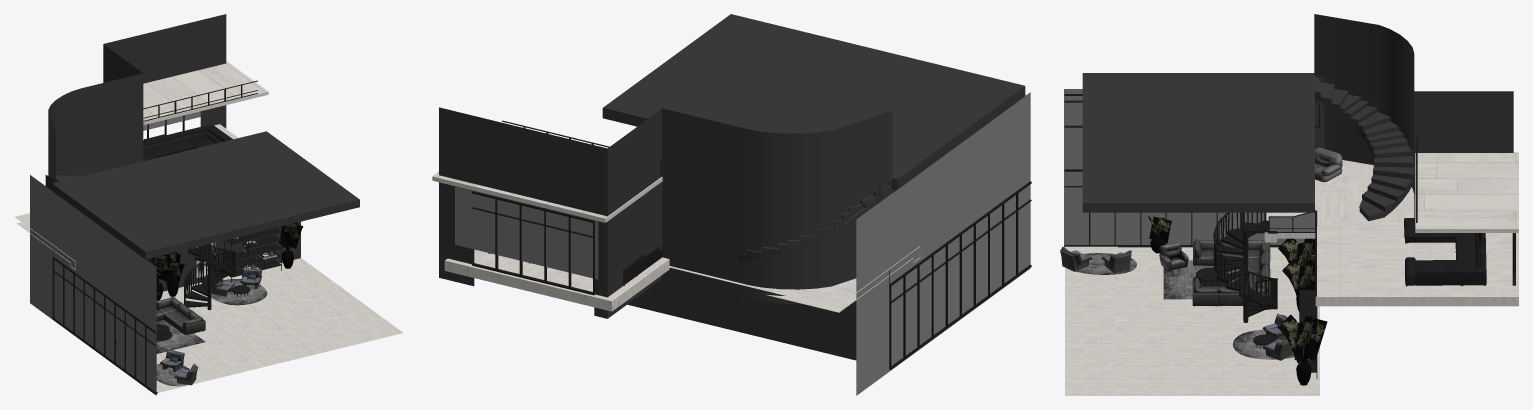
Rendered from loft.glb.
3 views of the same model, side by side, from view 1: azimuth 30°, elevation 25°; view 2: azimuth 150°, elevation 25°; view 3: azimuth 270°, elevation 25° (orthographic). The views are drawn at different scales.
Parts seen in each view (by area): view 1: Cube.008, Plane.026, Plane, Plane.007, Cube.009, Cube, node_0, node_0_S-Remesh, Cube.014, Plane.001, node_0.001, Plane.006 (+7 smaller); view 2: Plane.007, Cube.008, Plane.026, Plane.001, Plane.029, Cube.006, Cube, Cube.011, Plane.003, Cube.009, node_0.002, node_0_S-Remesh; view 3: Cube.008, Plane, Plane.007, Cube.006, Cube.009, Plane.026, node_0.002, Plane.003, node_0, node_0_S-Remesh, node_0.001, Plane.004 (+15 smaller).
Boxes of the visible parts, x1,y1,x2,y2 form: Cube.008: (52,131,359,259); Plane.026: (30,175,156,395); Plane: (156,258,403,392); Plane.007: (48,14,226,182); Cube.009: (143,61,268,125); Cube: (52,257,157,394); node_0: (183,243,235,310); node_0_S-Remesh: (143,124,232,161); Cube.014: (224,226,281,282); Plane.001: (53,221,300,291); node_0.001: (156,296,205,334); Plane.006: (211,279,267,305); Plane.007: (439,107,892,318); Cube.008: (602,14,1025,189); Plane.026: (856,92,1030,395); Plane.001: (627,270,889,360); Plane.029: (455,186,598,279); Cube.006: (444,249,669,311); Cube: (889,181,1031,369); Cube.011: (472,191,595,295); Plane.003: (668,246,920,312); Cube.009: (432,172,662,222); node_0.002: (737,179,891,261); node_0_S-Remesh: (488,246,663,285); Cube.008: (1082,73,1314,212); Plane: (1065,246,1319,395); Plane.007: (1314,14,1513,217); Cube.006: (1315,223,1518,306); Cube.009: (1415,152,1518,232); Plane.026: (1064,89,1304,247); node_0.002: (1315,76,1414,221); Plane.003: (1264,160,1414,242); node_0: (1213,212,1277,322); node_0_S-Remesh: (1404,218,1486,286); node_0.001: (1192,239,1270,306); Plane.004: (1163,260,1242,299).
Bounding box in the file's own units: 14.36 × 10.09 × 17.87.
16 materials, 10 textured.
